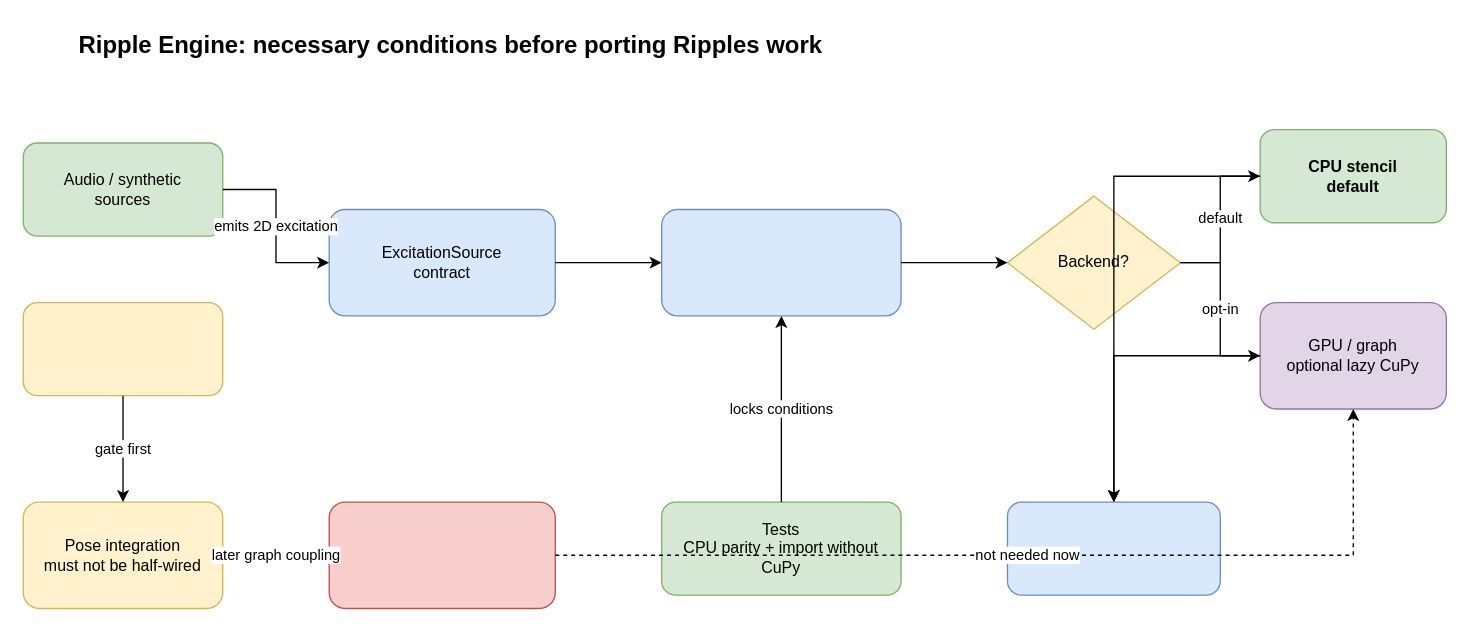
Image size: 1470x632. Some labels were removed from this diagram. Each missing label, with the centre of its shape:
Deferred for later boundary masks + Laplacian cache: the point at 441,554
Pose graph source: the point at 122,348
RippleEngine accumulate + dt/CFL: the point at 780,262
Visualizer renders field: the point at 1113,548
